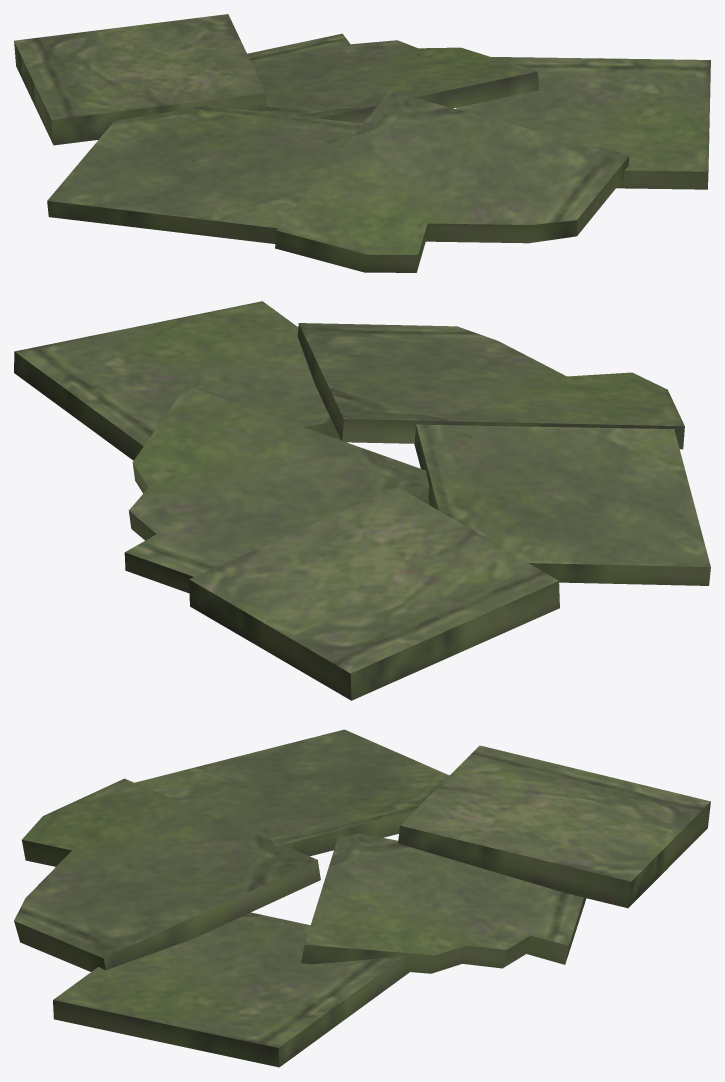
File: 5004_Item_dimian_3.FBX
3 renders of one model, top to bottom at view 1: azimuth 30°, elevation 25°; view 2: azimuth 150°, elevation 25°; view 3: azimuth 270°, elevation 25°, orthographic. The views are drawn at different scales.
Parts seen in each view (by area): view 1: 5004_Item_dimian_3; view 2: 5004_Item_dimian_3; view 3: 5004_Item_dimian_3.
Boxes of the visible parts, box(x1,y1,x2,y2) form: 5004_Item_dimian_3: box(14, 14, 710, 272); 5004_Item_dimian_3: box(14, 301, 710, 700); 5004_Item_dimian_3: box(14, 729, 710, 1067).
Bounding box in the file's own units: 11775 × 1217 × 10557.
